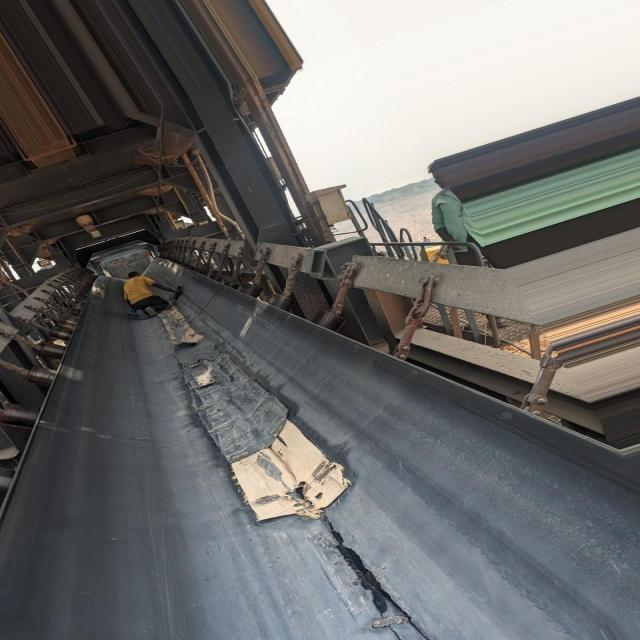Human: (124, 271, 182, 319)
Roller: (0, 302, 81, 500), (199, 270, 348, 332)
Tear: (333, 531, 387, 611)
patch work: (170, 335, 351, 520)
